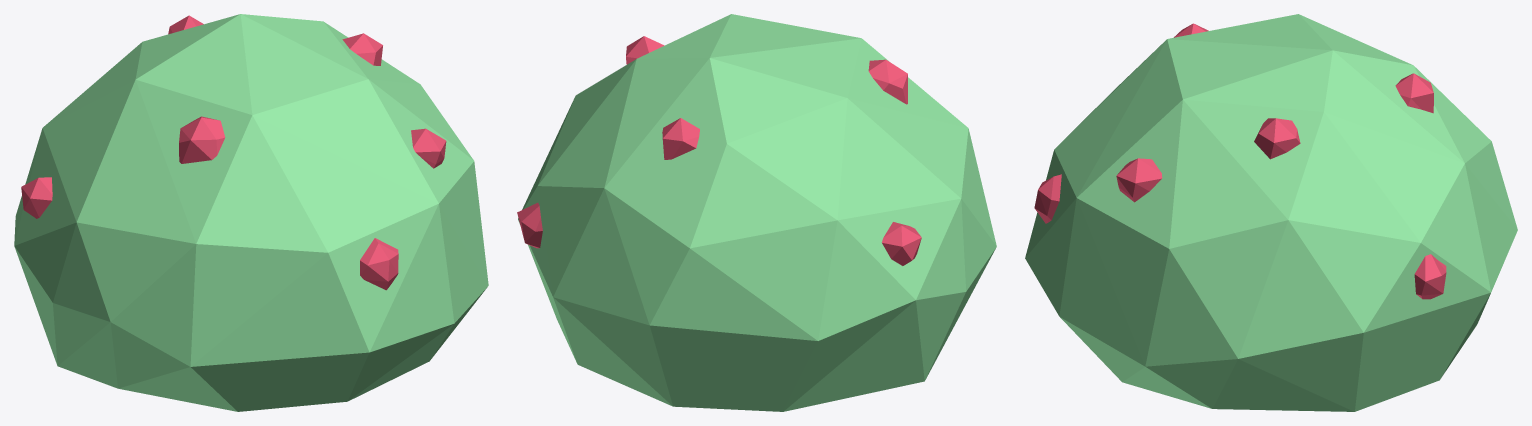
Rendered from bush_002.fbx.
3 renders of one model, left to right at view 1: azimuth 30°, elevation 25°; view 2: azimuth 150°, elevation 25°; view 3: azimuth 270°, elevation 25°, orthographic.
Visible parts, largest first — view 1: Bush_002_LOD0, Bush_002_Berries_LOD0; view 2: Bush_002_LOD0, Bush_002_Berries_LOD0; view 3: Bush_002_LOD0, Bush_002_Berries_LOD0.
Part boxes in pixels (x1=…): Bush_002_LOD0: x1=14, y1=14, x2=488, y2=411; Bush_002_Berries_LOD0: x1=21, y1=15, x2=446, y2=290; Bush_002_LOD0: x1=518, y1=14, x2=996, y2=411; Bush_002_Berries_LOD0: x1=517, y1=36, x2=921, y2=265; Bush_002_LOD0: x1=1025, y1=14, x2=1517, y2=411; Bush_002_Berries_LOD0: x1=1034, y1=23, x2=1446, y2=299.
Size of what is drawn, in the model's own units: 187 by 126 by 193.
